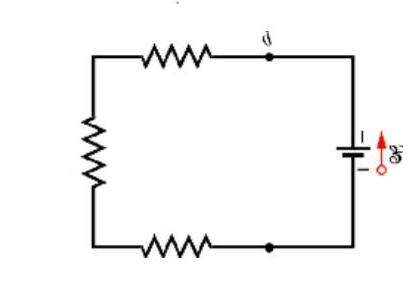resistor: (128, 214, 222, 272), (68, 98, 116, 201), (135, 32, 226, 75)
